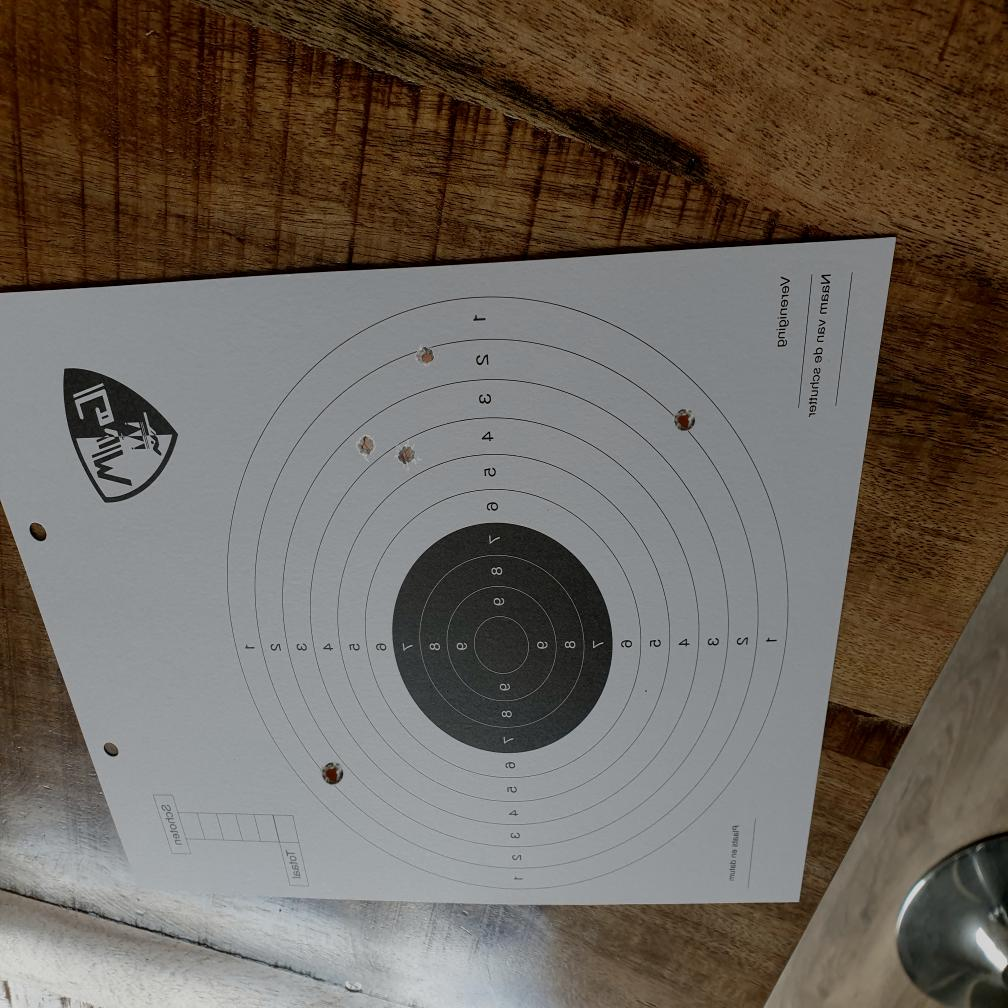2: (672, 407, 694, 433), (320, 762, 343, 786), (414, 343, 434, 366)
3: (355, 434, 376, 462)
4: (396, 442, 418, 468)
Target: (225, 294, 790, 896)
black_contour: (392, 523, 613, 754)
